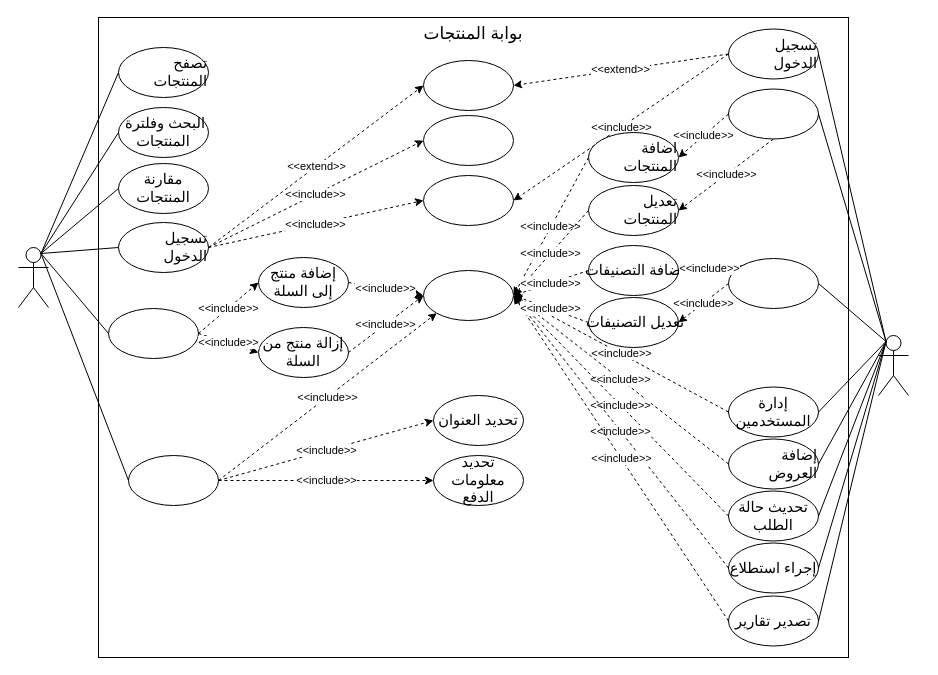
This 938x675 diagram has some shape labels left out. Here are the shapes that lost their labels. From the top down, the centre of each, then its label:
point 468,85: عرض رسالة خطأ
point 773,113: إدارة المنتجات
point 468,140: إنشاء سلة تسوق
point 468,200: التحقق من هوية المستخدم
point 33,277: الزبون
point 468,295: التحقق من تسجيل الدخول
point 773,283: إدارة التصنيفات
point 153,333: إدارة السلة
point 893,365: مدير البوابة
point 173,480: طلب المنتجات
